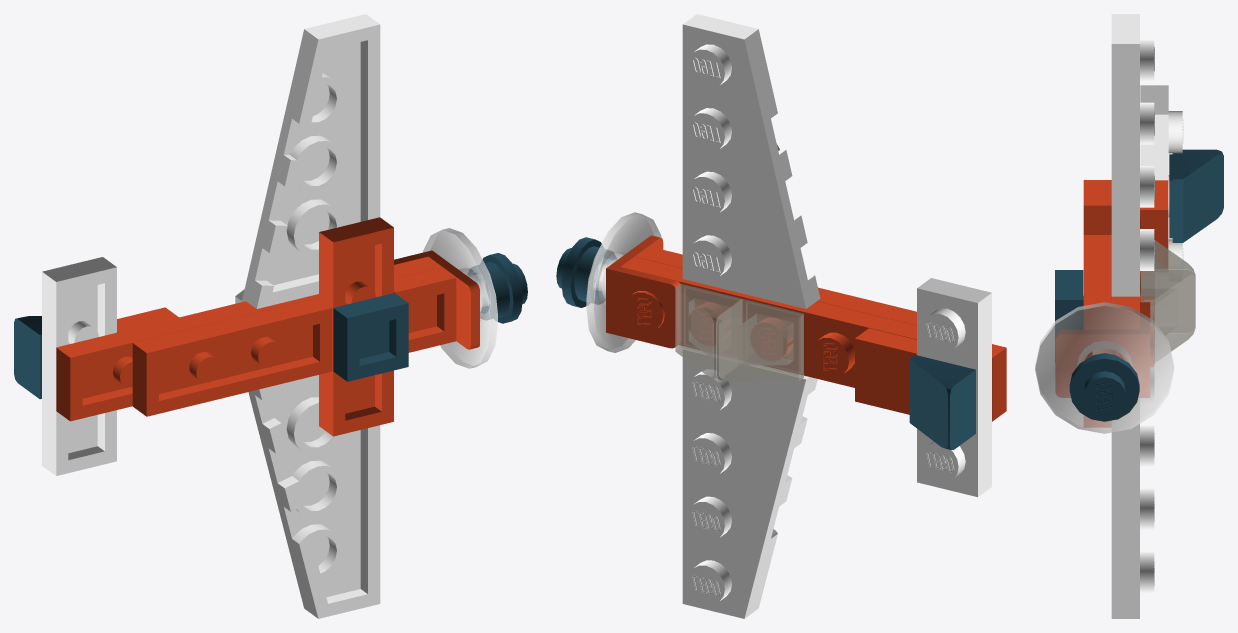
Rendered from small-lego-plane.glb.
The picture shows the model from 3 angles, left to right: view 1: azimuth 30°, elevation 25°; view 2: azimuth 150°, elevation 25°; view 3: azimuth 270°, elevation 25°; orthographic projection.
Parts seen in each view (by area): view 1: Inner-Node-P-51__Micrpo__pc_dot_io-8, Inner-Node-P-51__Micrpo__pc_dot_io-7, Inner-Node-P-51__Micrpo__pc_dot_io-2, Inner-Node-P-51__Micrpo__pc_dot_io-9, Inner-Node-P-51__Micrpo__pc_dot_io-1, Inner-Node-P-51__Micrpo__pc_dot_io-0, Inner-Node-P-51__Micrpo__pc_dot_io-14, Inner-Node-P-51__Micrpo__pc_dot_io-3, Inner-Node-P-51__Micrpo__pc_dot_io-11, Inner-Node-P-51__Micrpo__pc_dot_io-12, Inner-Node-P-51__Micrpo__pc_dot_io-13, Inner-Node-P-51__Micrpo__pc_dot_io-10 (+1 smaller); view 2: Inner-Node-P-51__Micrpo__pc_dot_io-8, Inner-Node-P-51__Micrpo__pc_dot_io-7, Inner-Node-P-51__Micrpo__pc_dot_io-0, Inner-Node-P-51__Micrpo__pc_dot_io-9, Inner-Node-P-51__Micrpo__pc_dot_io-6, Inner-Node-P-51__Micrpo__pc_dot_io-10, Inner-Node-P-51__Micrpo__pc_dot_io-5, Inner-Node-P-51__Micrpo__pc_dot_io-13, Inner-Node-P-51__Micrpo__pc_dot_io-4, Inner-Node-P-51__Micrpo__pc_dot_io-11, Inner-Node-P-51__Micrpo__pc_dot_io-12, Inner-Node-P-51__Micrpo__pc_dot_io-2; view 3: Inner-Node-P-51__Micrpo__pc_dot_io-8, Inner-Node-P-51__Micrpo__pc_dot_io-11, Inner-Node-P-51__Micrpo__pc_dot_io-7, Inner-Node-P-51__Micrpo__pc_dot_io-10, Inner-Node-P-51__Micrpo__pc_dot_io-5, Inner-Node-P-51__Micrpo__pc_dot_io-13, Inner-Node-P-51__Micrpo__pc_dot_io-12, Inner-Node-P-51__Micrpo__pc_dot_io-9, Inner-Node-P-51__Micrpo__pc_dot_io-1, Inner-Node-P-51__Micrpo__pc_dot_io-6, Inner-Node-P-51__Micrpo__pc_dot_io-14, Inner-Node-P-51__Micrpo__pc_dot_io-4 (+3 smaller).
Boxes of the visible parts, x1,y1,x2,y2 form: Inner-Node-P-51__Micrpo__pc_dot_io-8: (242,14,380,308); Inner-Node-P-51__Micrpo__pc_dot_io-7: (248,375,380,618); Inner-Node-P-51__Micrpo__pc_dot_io-2: (132,297,332,416); Inner-Node-P-51__Micrpo__pc_dot_io-9: (42,257,116,475); Inner-Node-P-51__Micrpo__pc_dot_io-1: (319,217,393,436); Inner-Node-P-51__Micrpo__pc_dot_io-0: (56,257,441,421); Inner-Node-P-51__Micrpo__pc_dot_io-14: (333,293,408,381); Inner-Node-P-51__Micrpo__pc_dot_io-3: (394,267,456,352); Inner-Node-P-51__Micrpo__pc_dot_io-11: (423,228,497,368); Inner-Node-P-51__Micrpo__pc_dot_io-12: (468,253,527,323); Inner-Node-P-51__Micrpo__pc_dot_io-13: (394,250,479,349); Inner-Node-P-51__Micrpo__pc_dot_io-10: (14,316,41,399); Inner-Node-P-51__Micrpo__pc_dot_io-8: (682,14,820,308); Inner-Node-P-51__Micrpo__pc_dot_io-7: (682,347,817,618); Inner-Node-P-51__Micrpo__pc_dot_io-0: (621,257,1006,421); Inner-Node-P-51__Micrpo__pc_dot_io-9: (917,278,991,497); Inner-Node-P-51__Micrpo__pc_dot_io-6: (717,299,803,382); Inner-Node-P-51__Micrpo__pc_dot_io-10: (909,355,975,449); Inner-Node-P-51__Micrpo__pc_dot_io-5: (675,283,741,378); Inner-Node-P-51__Micrpo__pc_dot_io-13: (606,235,681,348); Inner-Node-P-51__Micrpo__pc_dot_io-4: (855,328,916,414); Inner-Node-P-51__Micrpo__pc_dot_io-11: (586,212,661,352); Inner-Node-P-51__Micrpo__pc_dot_io-12: (556,237,616,307); Inner-Node-P-51__Micrpo__pc_dot_io-2: (817,287,916,325); Inner-Node-P-51__Micrpo__pc_dot_io-8: (1111,14,1154,296); Inner-Node-P-51__Micrpo__pc_dot_io-11: (1035,302,1174,433); Inner-Node-P-51__Micrpo__pc_dot_io-7: (1111,367,1154,618); Inner-Node-P-51__Micrpo__pc_dot_io-10: (1169,149,1223,242); Inner-Node-P-51__Micrpo__pc_dot_io-5: (1140,270,1195,361); Inner-Node-P-51__Micrpo__pc_dot_io-13: (1055,302,1150,397); Inner-Node-P-51__Micrpo__pc_dot_io-12: (1069,353,1139,421); Inner-Node-P-51__Micrpo__pc_dot_io-9: (1140,85,1182,269); Inner-Node-P-51__Micrpo__pc_dot_io-1: (1083,205,1111,427); Inner-Node-P-51__Micrpo__pc_dot_io-6: (1140,240,1195,332); Inner-Node-P-51__Micrpo__pc_dot_io-14: (1055,270,1083,334); Inner-Node-P-51__Micrpo__pc_dot_io-4: (1140,180,1168,268).
Size of the model in its own units: 143 by 178 by 53.11.
